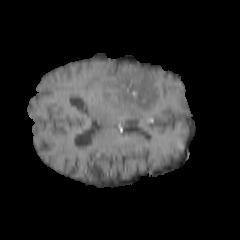glioma: (91, 69, 160, 112)
